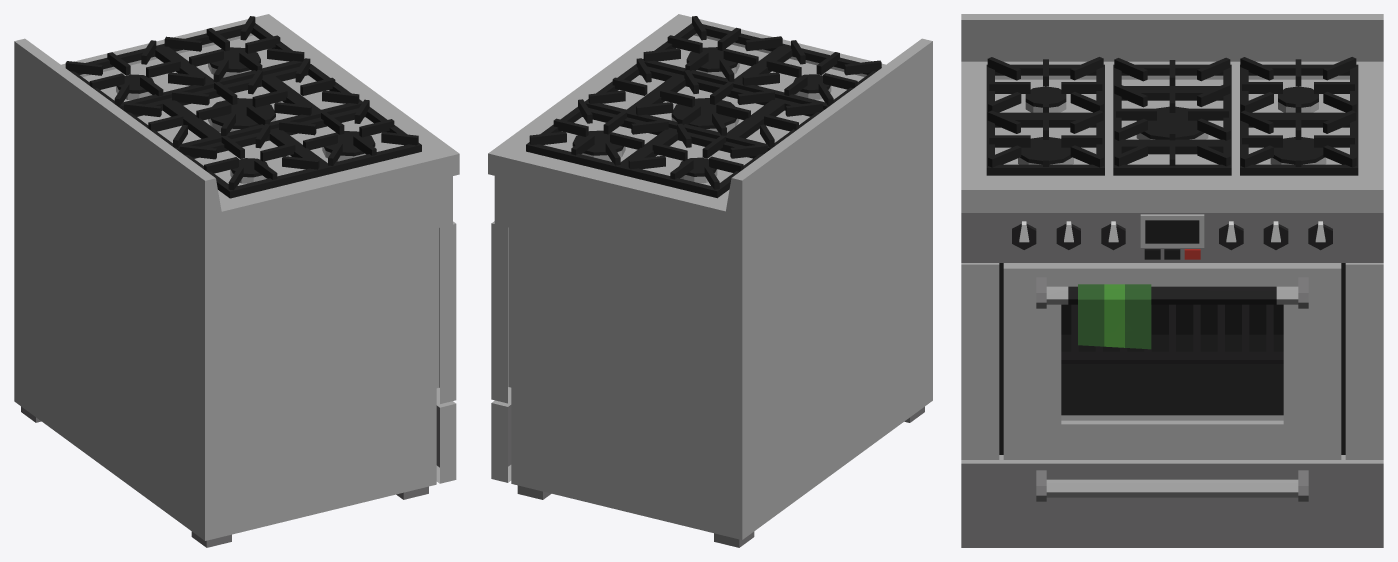
Rendered from SM_kitchenOven_01.glb.
The picture shows the model from 3 angles, left to right: view 1: azimuth 30°, elevation 25°; view 2: azimuth 150°, elevation 25°; view 3: azimuth 270°, elevation 25°; orthographic projection. The views are drawn at different scales.
Parts seen in each view (by area): view 1: SM_kitchenOven_01; view 2: SM_kitchenOven_01; view 3: SM_kitchenOven_01.
Boxes of the visible parts, x1=… form: SM_kitchenOven_01: x1=14, y1=14, x2=459, y2=547; SM_kitchenOven_01: x1=488, y1=14, x2=932, y2=547; SM_kitchenOven_01: x1=961, y1=14, x2=1383, y2=547.
Bounding box in the file's own units: 0.8353 × 1.07 × 1.
Materials: 2 (1 with a texture image).
